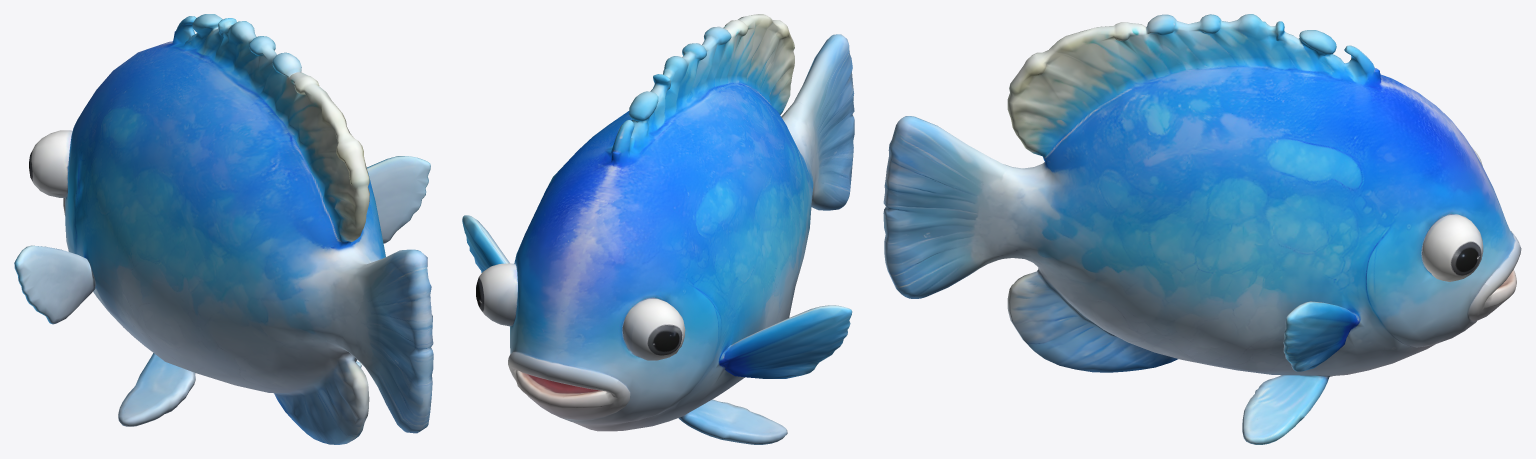
Rendered from cloud_minnow.fbx.
The picture shows the model from 3 angles, left to right: view 1: azimuth 30°, elevation 25°; view 2: azimuth 150°, elevation 25°; view 3: azimuth 270°, elevation 25°; orthographic projection. The views are drawn at different scales.
Parts seen in each view (by area): view 1: tripo_node_f2c2559c; view 2: tripo_node_f2c2559c; view 3: tripo_node_f2c2559c.
Part boxes in pixels (bbox=[...]): tripo_node_f2c2559c: bbox=[14, 14, 433, 444]; tripo_node_f2c2559c: bbox=[462, 14, 854, 444]; tripo_node_f2c2559c: bbox=[883, 14, 1521, 444].
Bounding box in the file's own units: 0.7427 × 0.6509 × 0.9995.
Materials: 1 (1 with a texture image).
